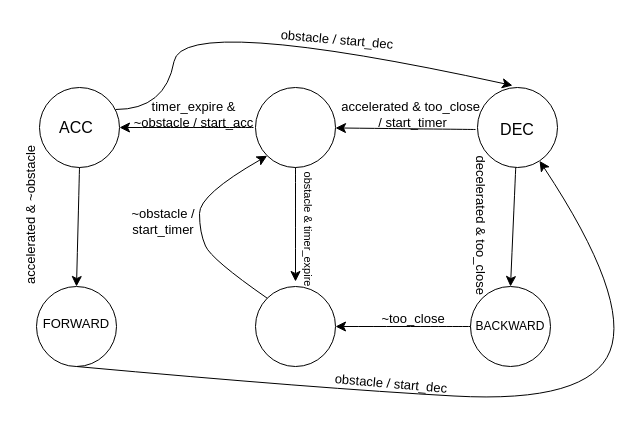
Some shapes in this 631 by 424 pixel diagram are drawn without their labels. Each missing label, with the box of its shape:
IDLE: (254, 86, 336, 168)
RIGHT: (254, 286, 336, 366)
